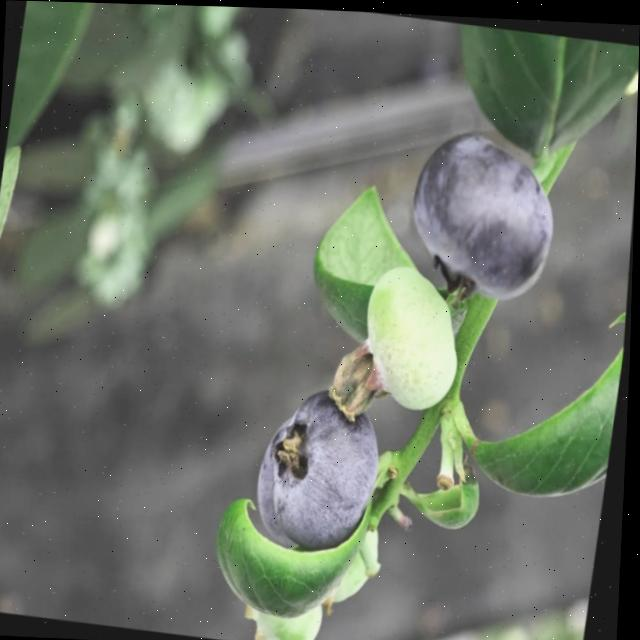RipeBlueBerry: (403, 126, 566, 299), (253, 380, 388, 558)
UnripeBlueBerry: (361, 261, 473, 414)
